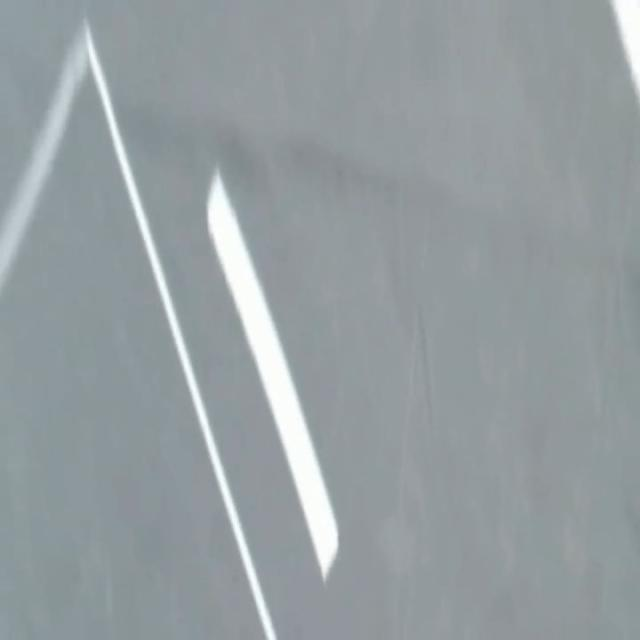center: (207, 172, 337, 578)
right: (611, 0, 639, 99)
